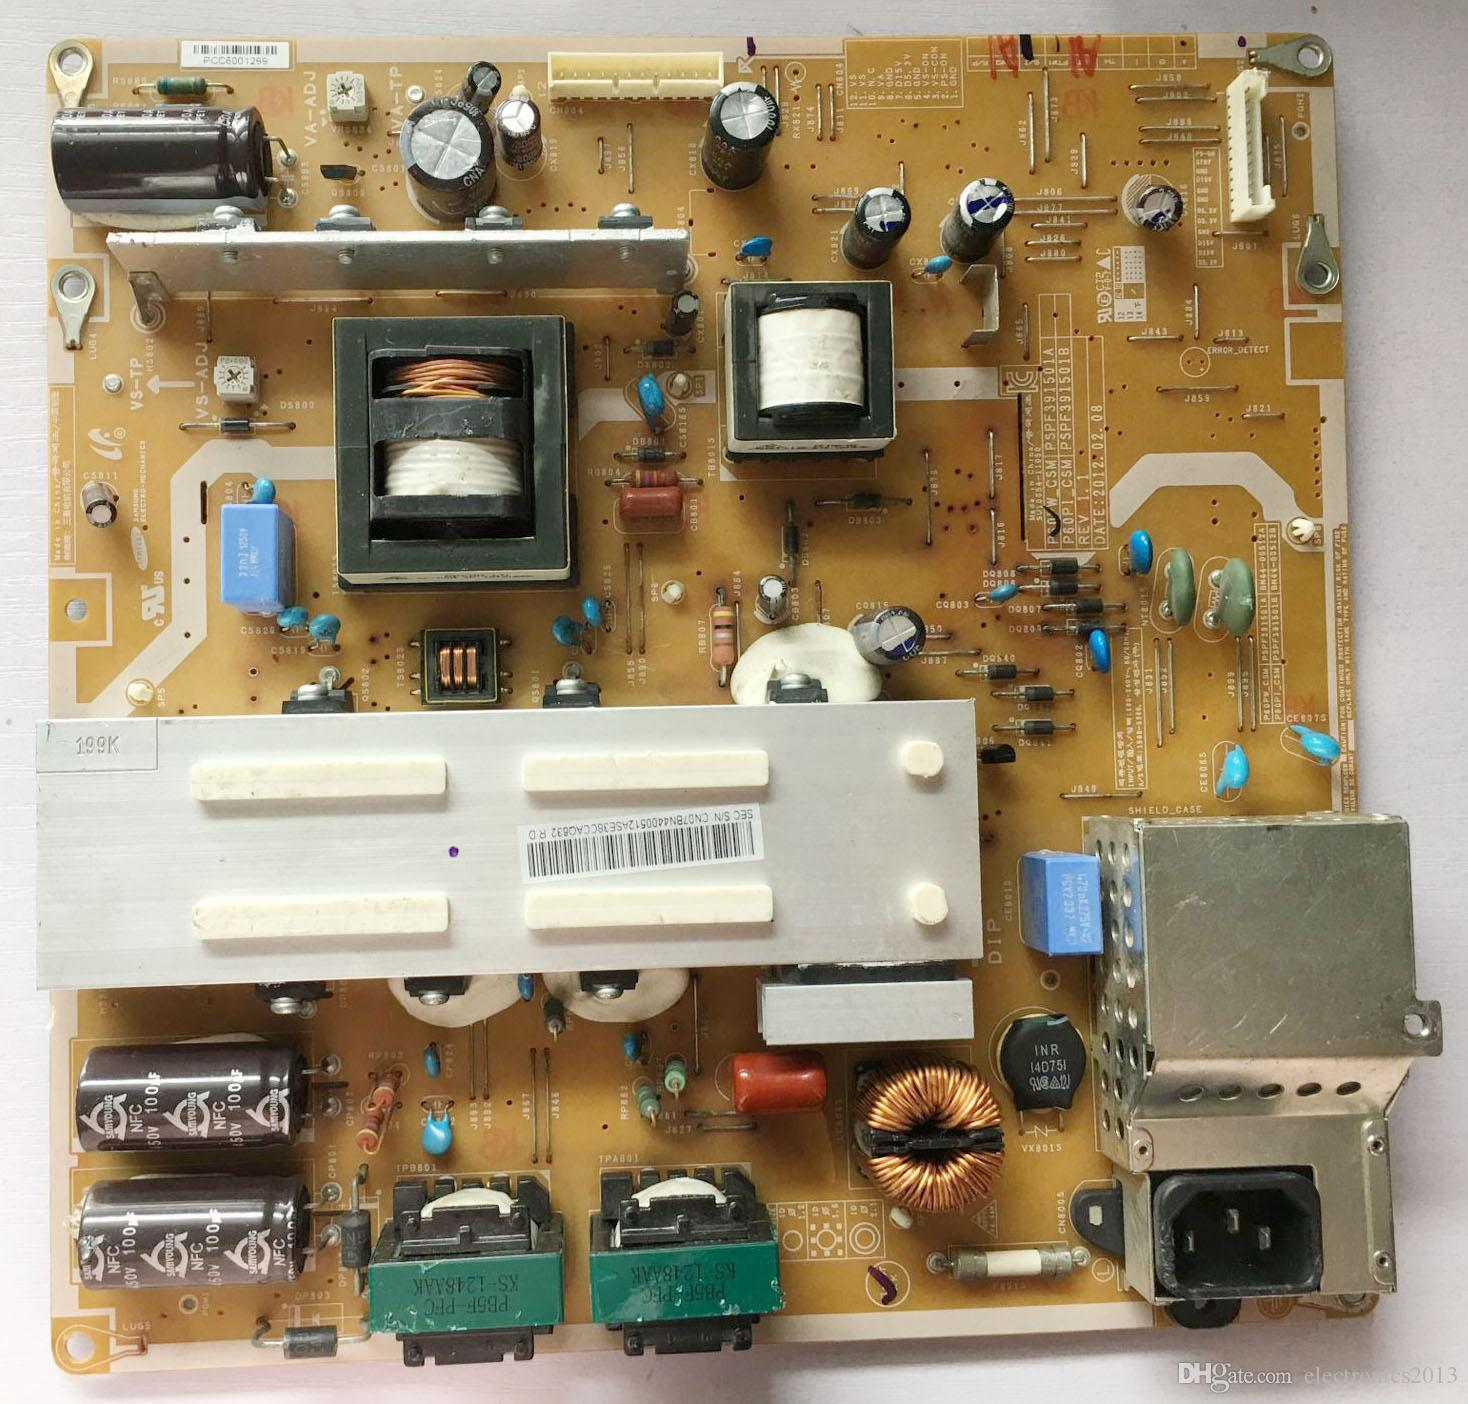capacitor: (663, 67, 809, 212), (387, 72, 505, 233), (936, 163, 1035, 279), (841, 168, 928, 284), (851, 581, 946, 680), (490, 88, 564, 172)
